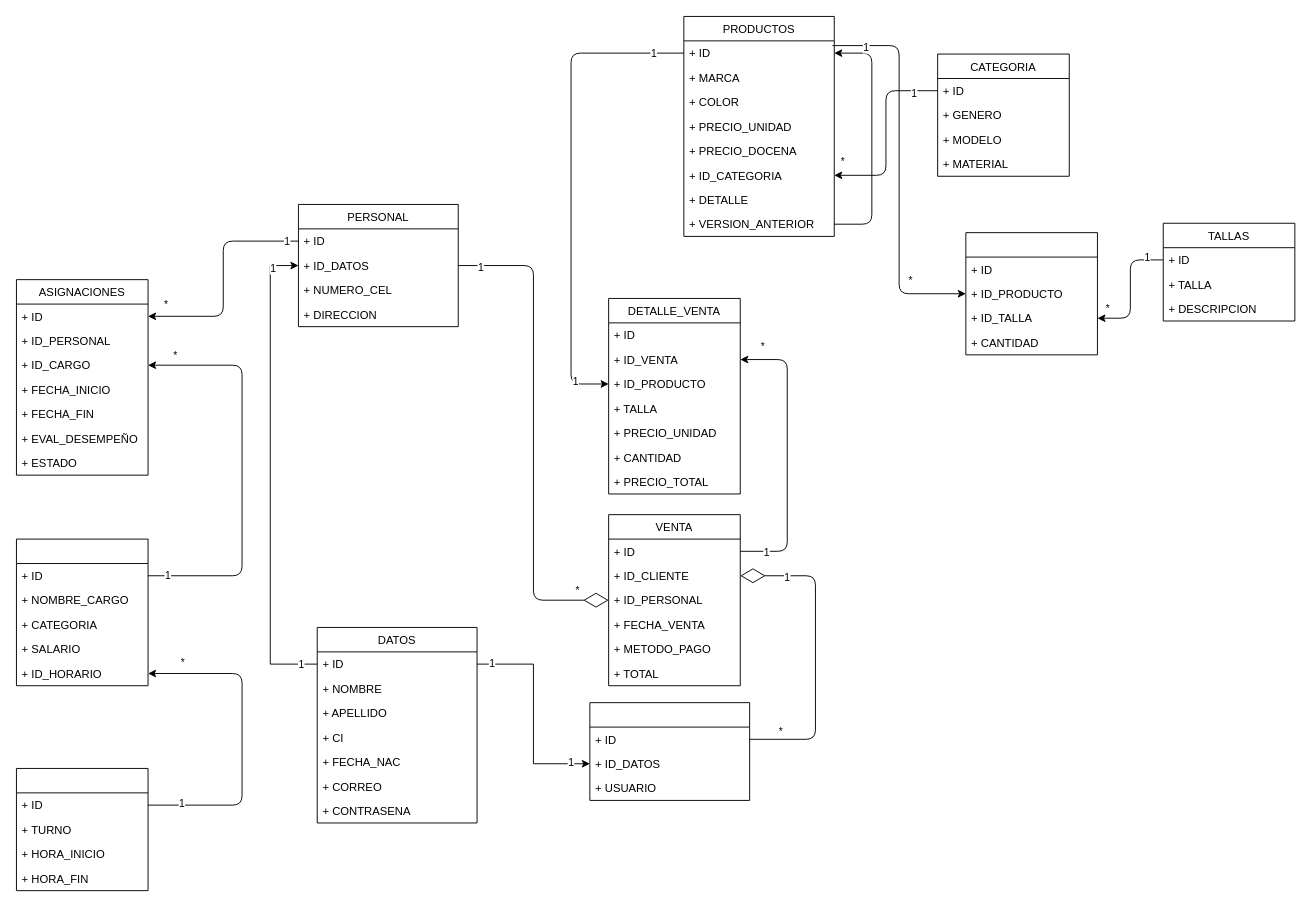
Some shapes in this 1311 by 910 pixel diagram are drawn without their labels. Here are the shapes that lost their labels. From the top down, the box of each, then its label:
(965, 232, 1097, 355): STOCK
(16, 538, 148, 686): CARGOS
(589, 702, 750, 800): CLIENTES
(16, 768, 148, 891): HORARIO
